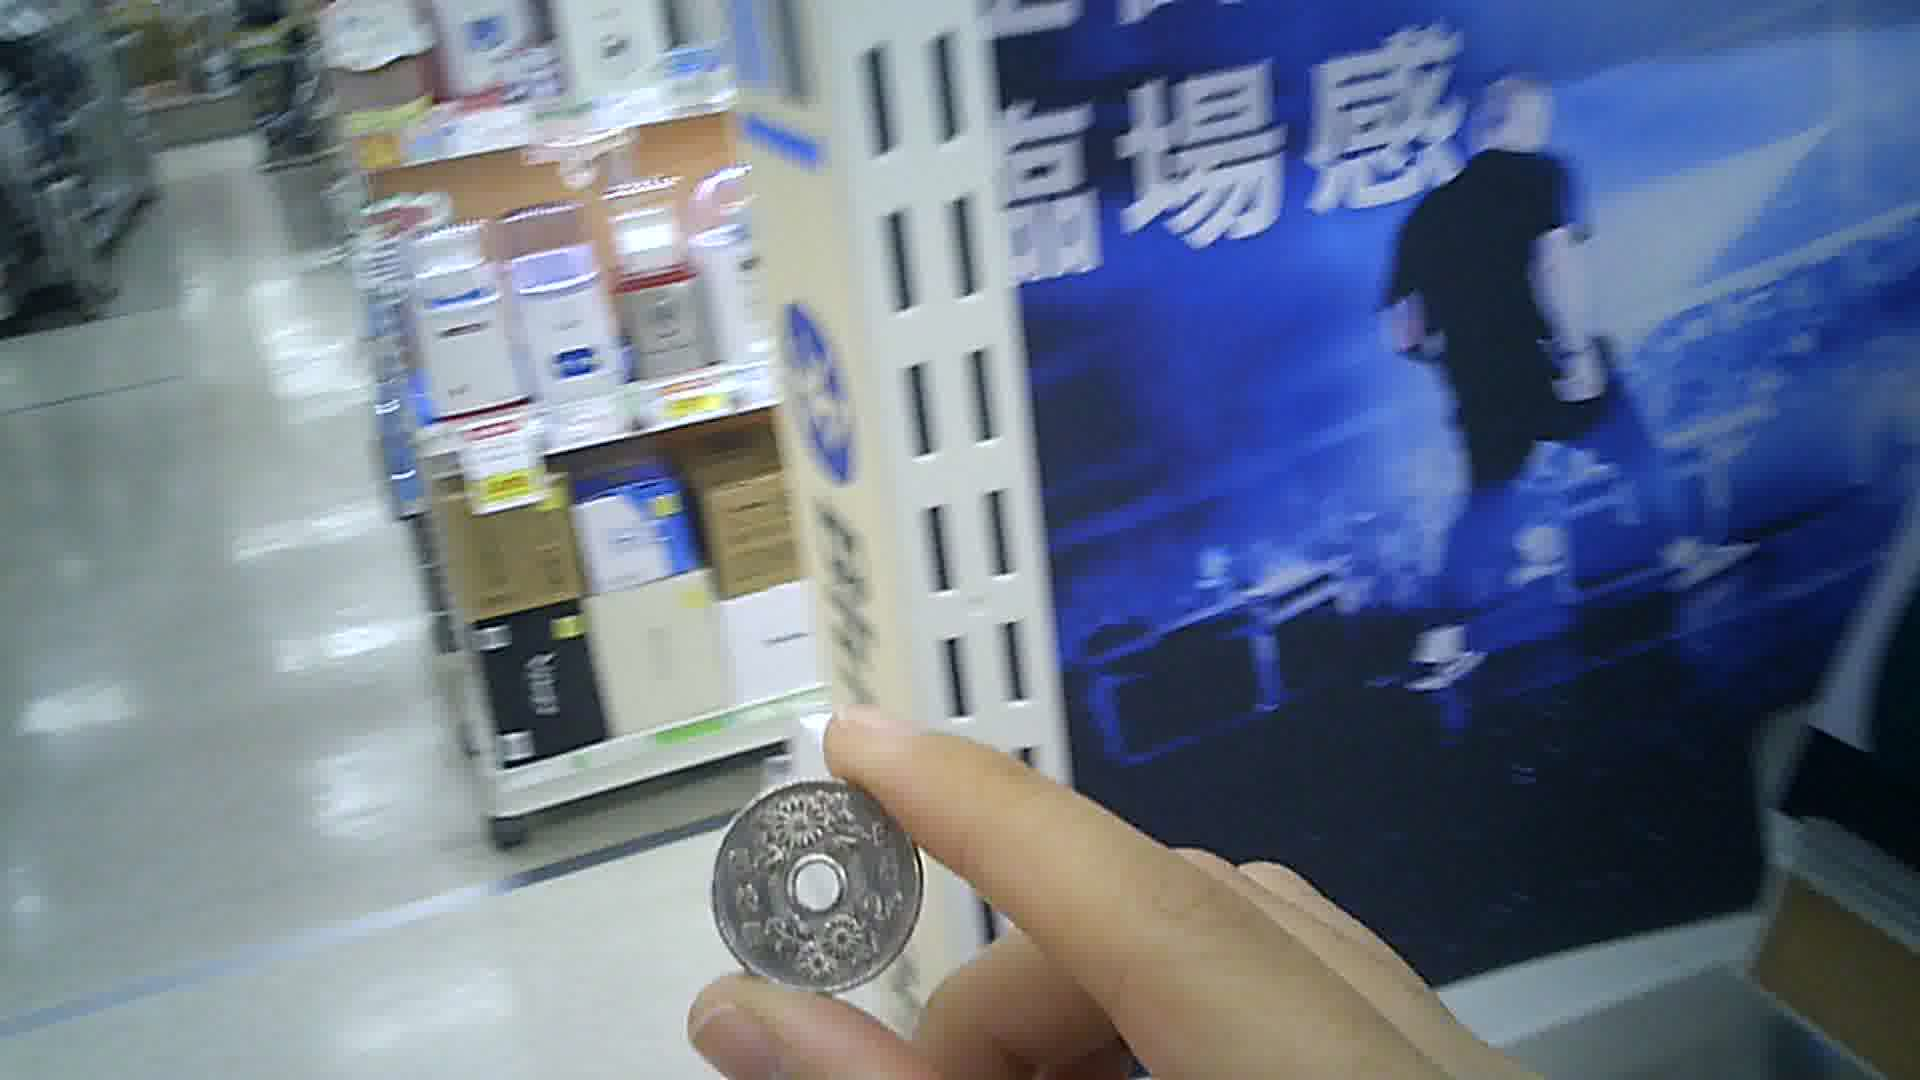50 Yen: (703, 766, 928, 996)
